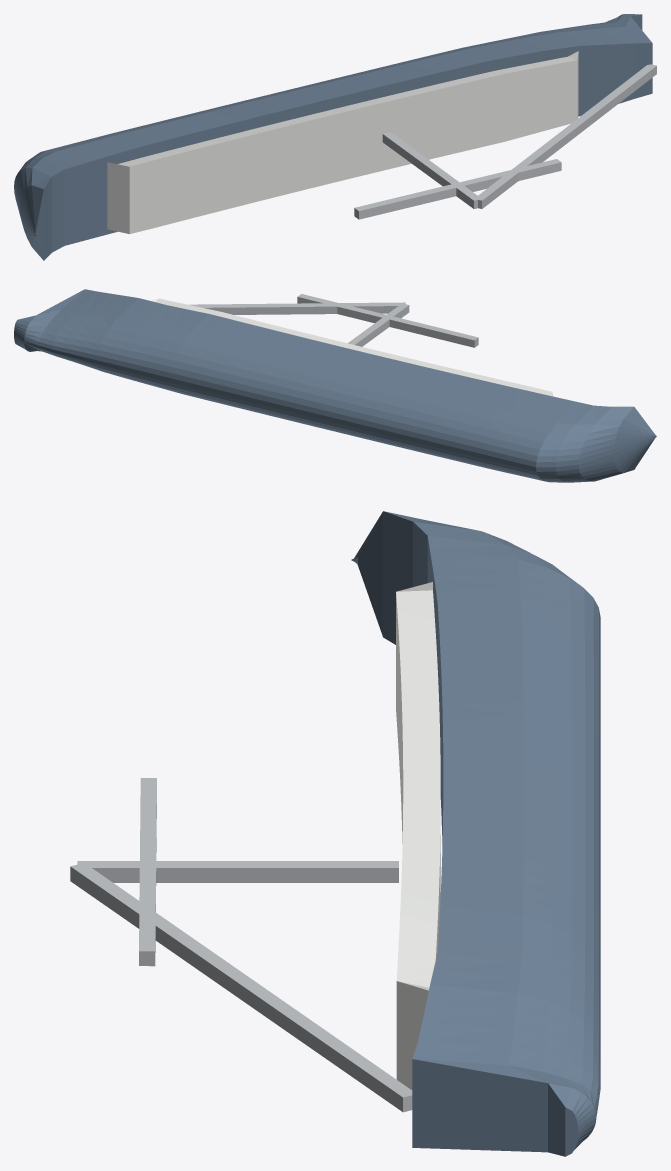
Rendered from loft-tessarakonteres-slender.glb.
3 views of the same model, one above another, from view 1: azimuth 30°, elevation 25°; view 2: azimuth 150°, elevation 25°; view 3: azimuth 270°, elevation 25° (orthographic). The views are drawn at different scales.
Visible parts, largest first — view 1: loft-tessarakonteres-slender; view 2: loft-tessarakonteres-slender; view 3: loft-tessarakonteres-slender.
Boxes of the visible parts, <box> form: loft-tessarakonteres-slender: <box>14,14,656,260</box>; loft-tessarakonteres-slender: <box>14,289,656,482</box>; loft-tessarakonteres-slender: <box>70,511,600,1156</box>.
Bounding box in the file's own units: 1.98 × 0.224 × 0.7755.
